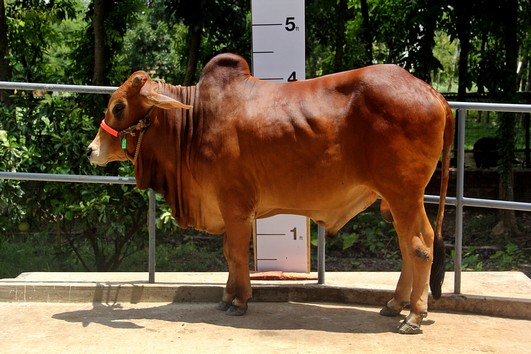cow: (80, 45, 458, 337)
